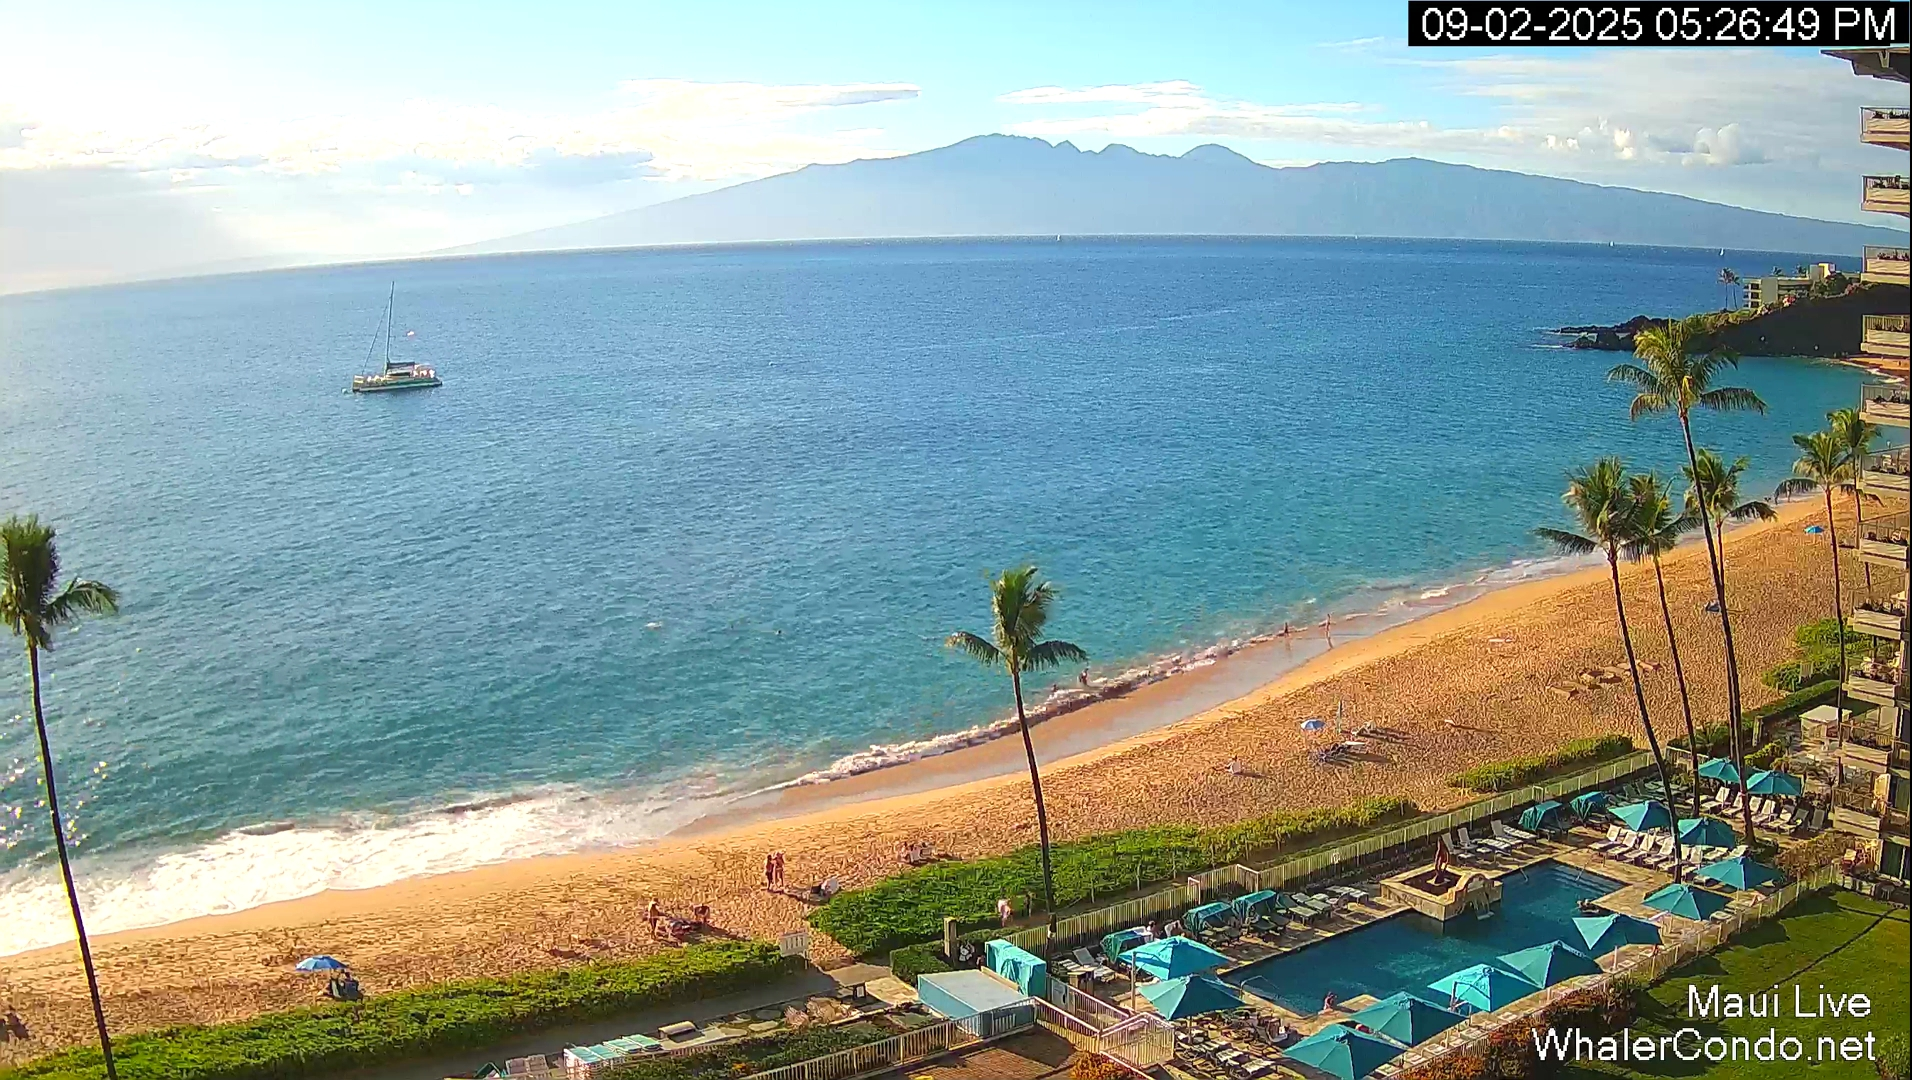boat: (351, 280, 443, 394)
person: (773, 850, 785, 889), (648, 898, 660, 933), (1225, 755, 1242, 774), (765, 855, 774, 890), (1147, 920, 1160, 940), (976, 954, 986, 972)
